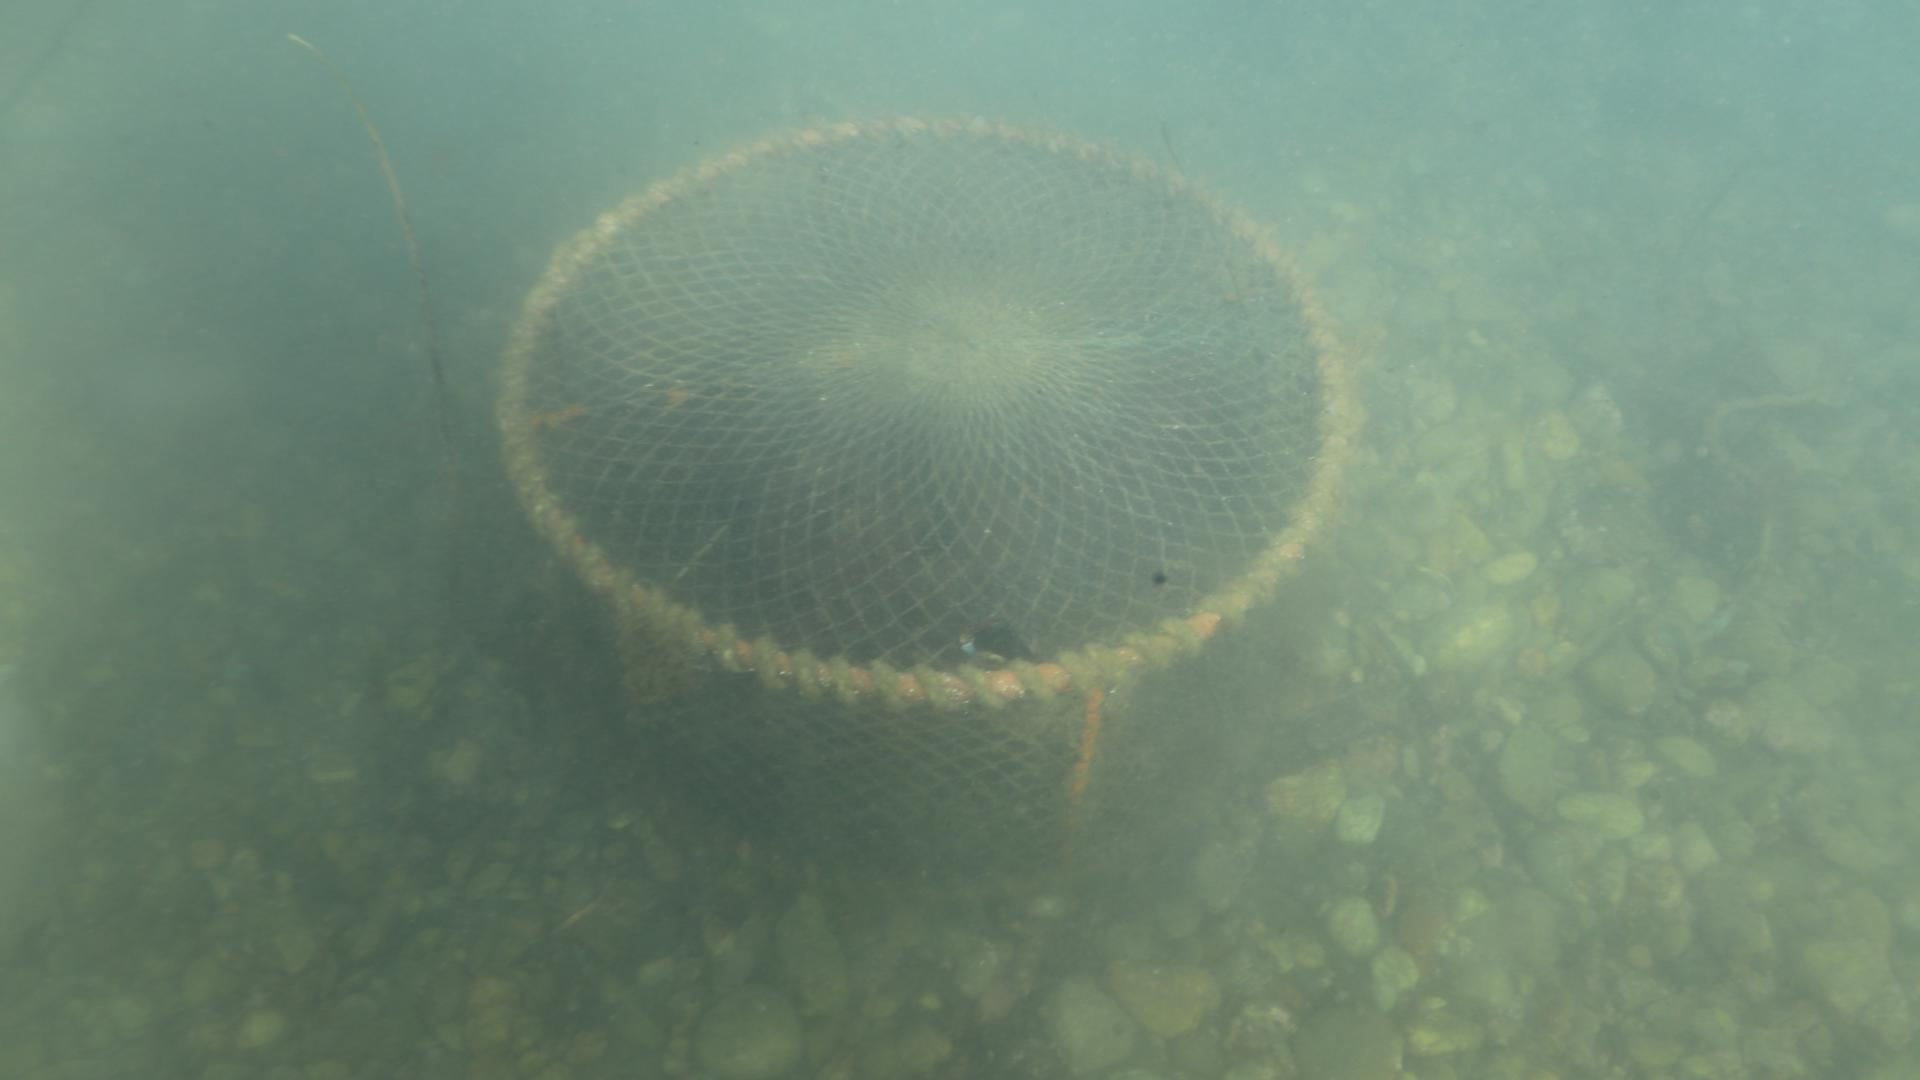circular fish trap: (493, 113, 1348, 851)
